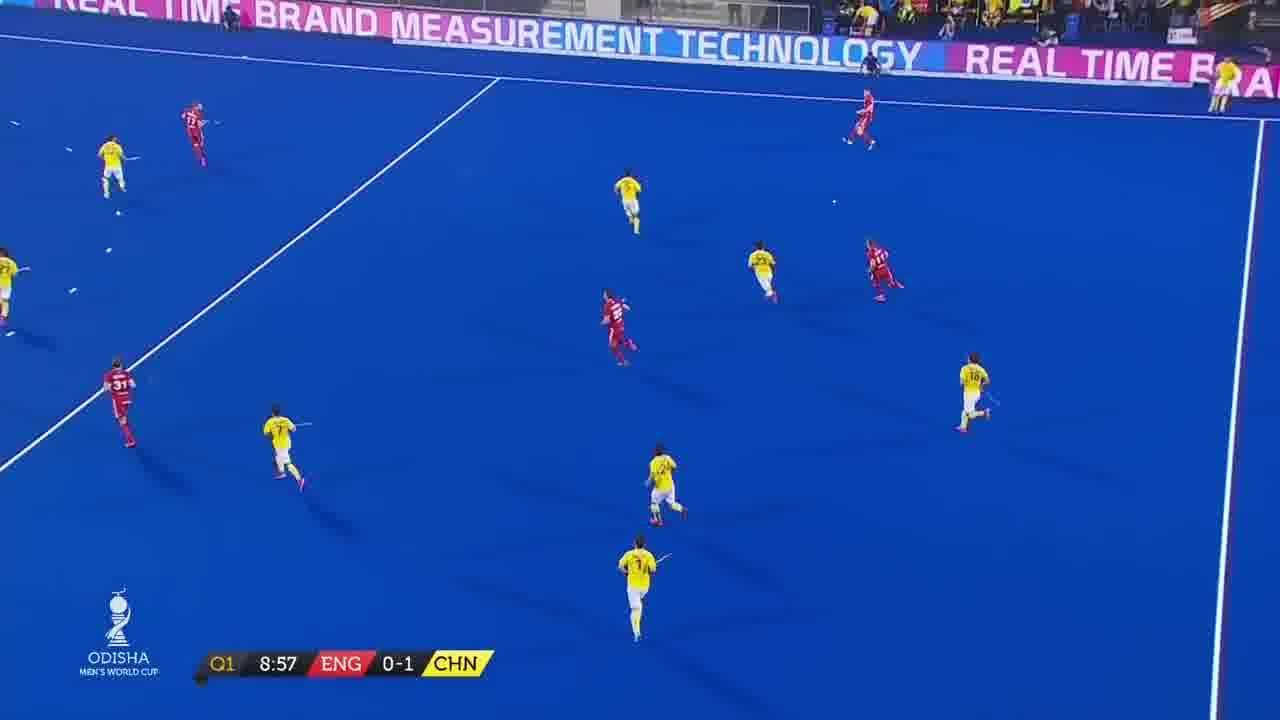ball: (830, 196, 840, 209)
